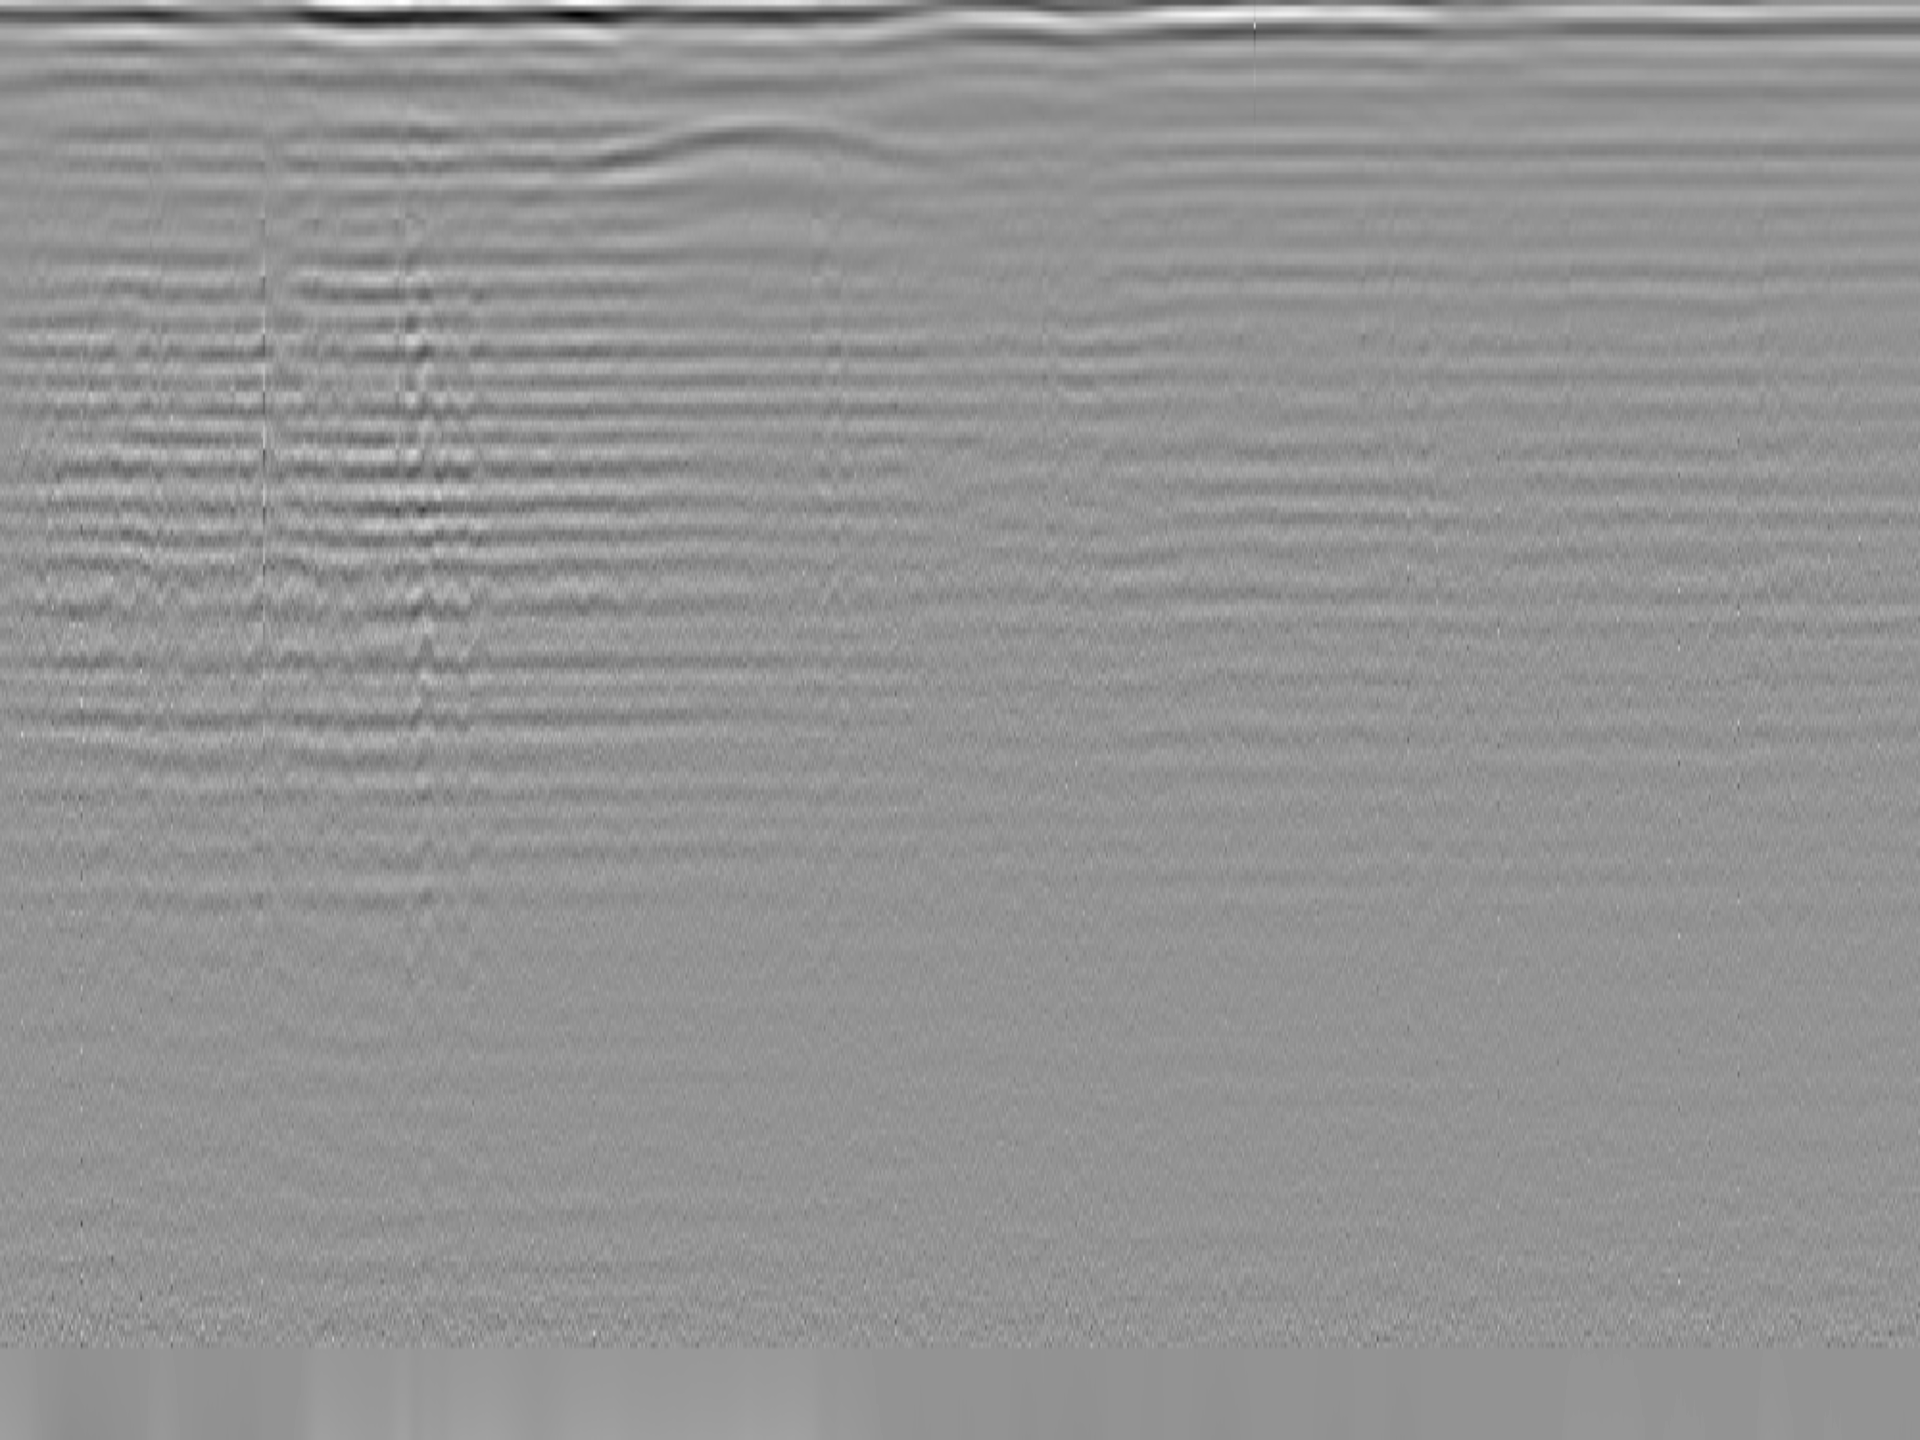Tunnel: (540, 115, 977, 172)
